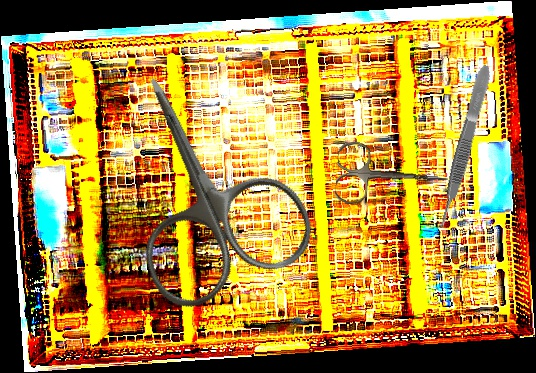Iris Scissors: (77, 42, 324, 319), (333, 139, 452, 213)
Tissue Forceps: (432, 63, 496, 228)
